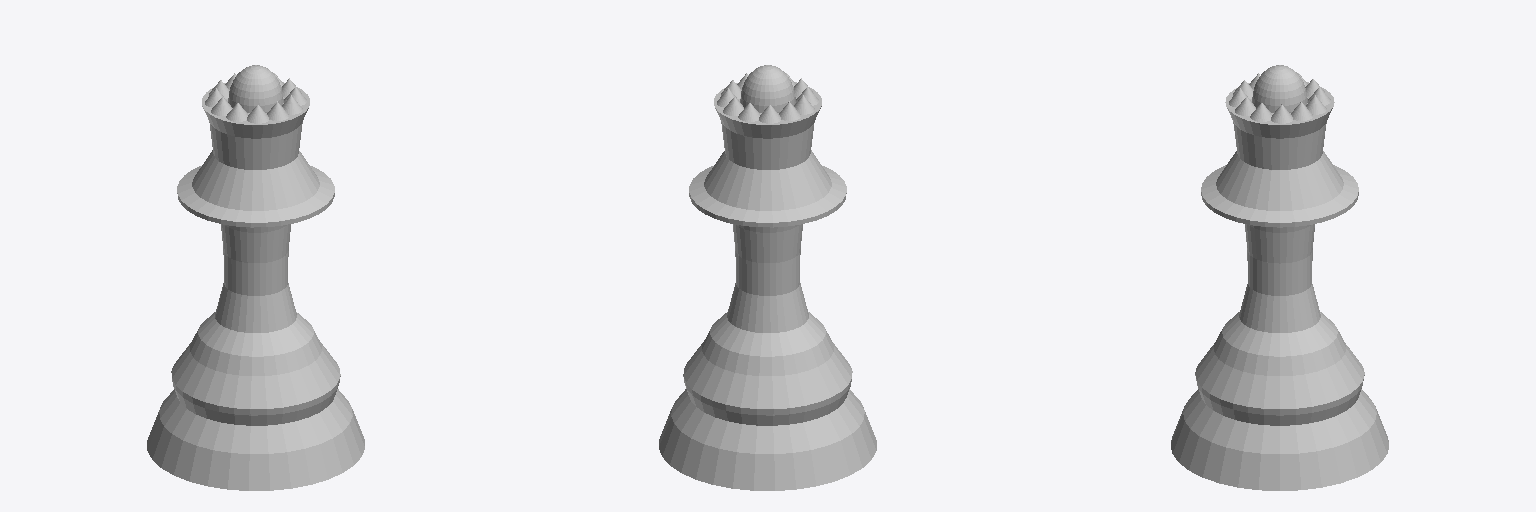
Rendered from queen.obj.
The picture shows the model from 3 angles: view 1: azimuth 30°, elevation 25°; view 2: azimuth 150°, elevation 25°; view 3: azimuth 270°, elevation 25°; orthographic projection.
Parts seen in each view (by area): view 1: Sphere; view 2: Sphere; view 3: Sphere.
Part boxes in pixels (x1,y1,x2,y2): Sphere: (147,65,364,490); Sphere: (659,65,876,490); Sphere: (1171,65,1388,490).
Size of the model in its own units: 4.25 by 8.09 by 4.25.